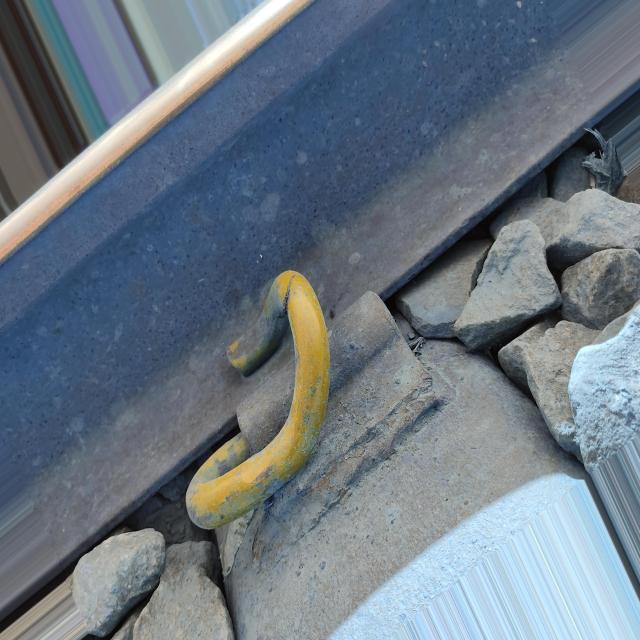Good Fasteners: (178, 245, 462, 567)
